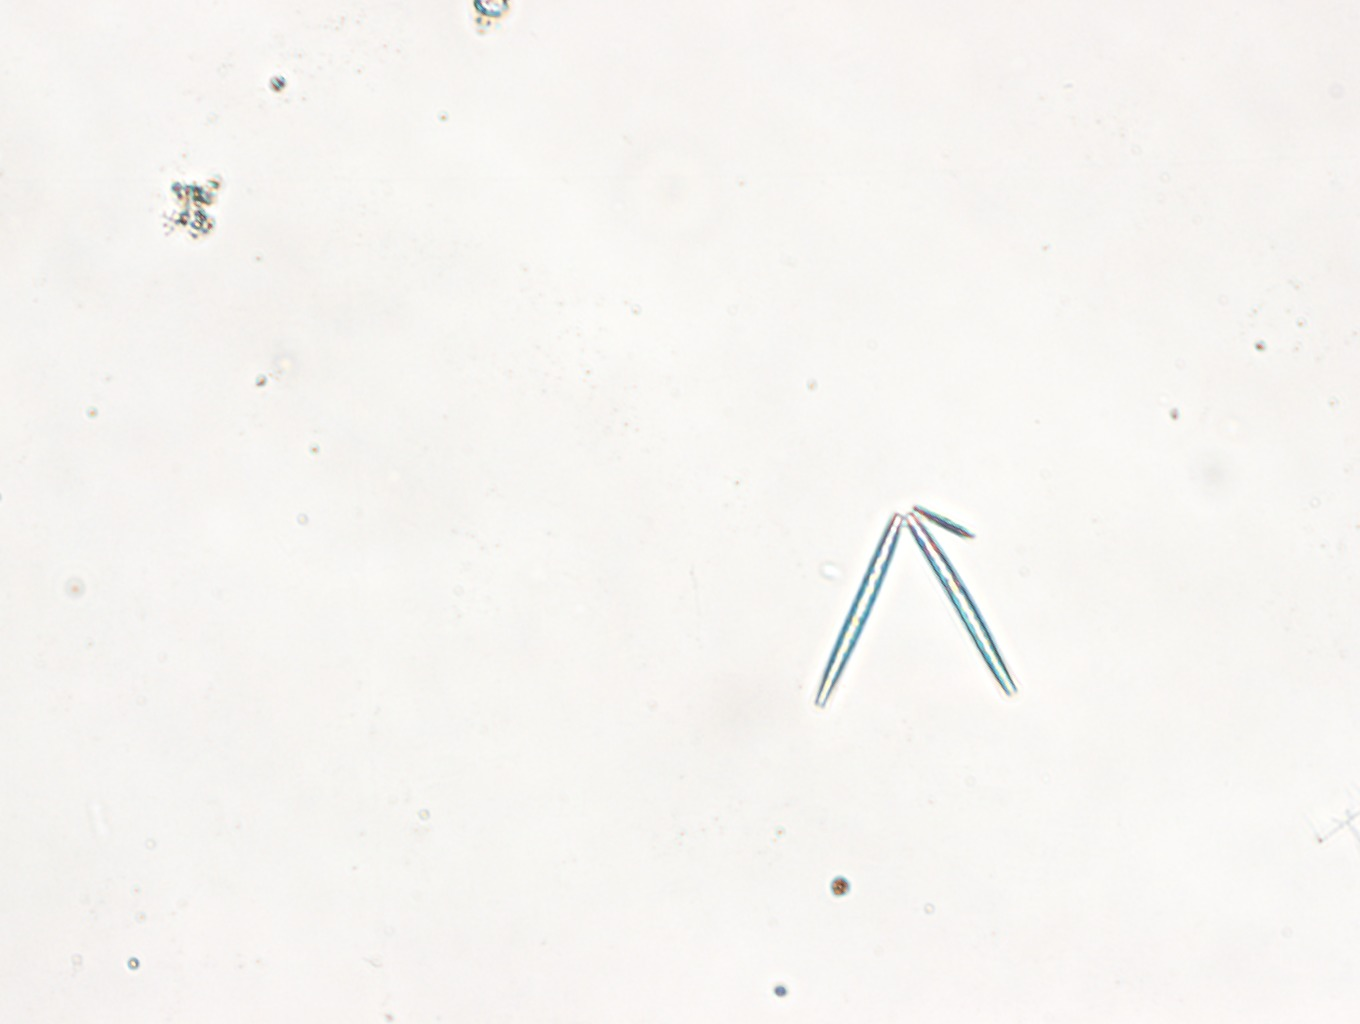thalassionema nitzschioides: (815, 513, 1016, 709)
